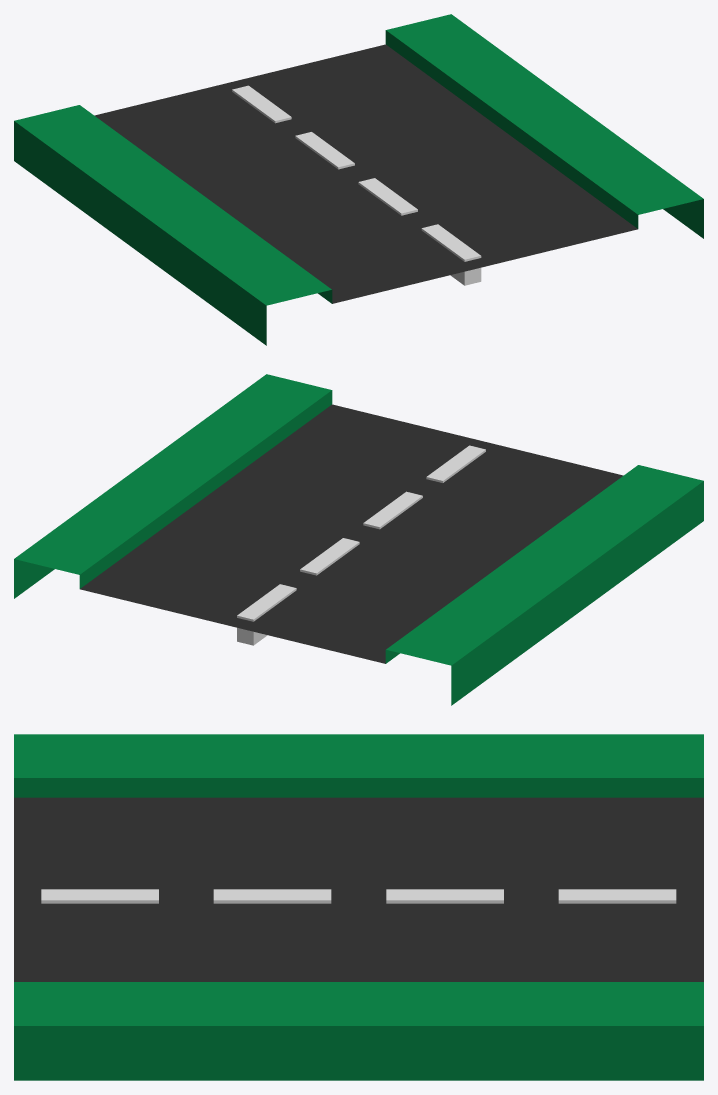
Rendered from Road_Straight.fbx.
The picture shows the model from 3 angles, top to bottom: view 1: azimuth 30°, elevation 25°; view 2: azimuth 150°, elevation 25°; view 3: azimuth 270°, elevation 25°; orthographic projection. The views are drawn at different scales.
Parts seen in each view (by area): view 1: Road_Straight; view 2: Road_Straight; view 3: Road_Straight.
Part boxes in pixels (x1,y1,x2,y2): Road_Straight: [14, 14, 703, 345]; Road_Straight: [14, 374, 703, 705]; Road_Straight: [14, 734, 703, 1080].
Size of the model in its own units: 96 by 8.42 by 96.
